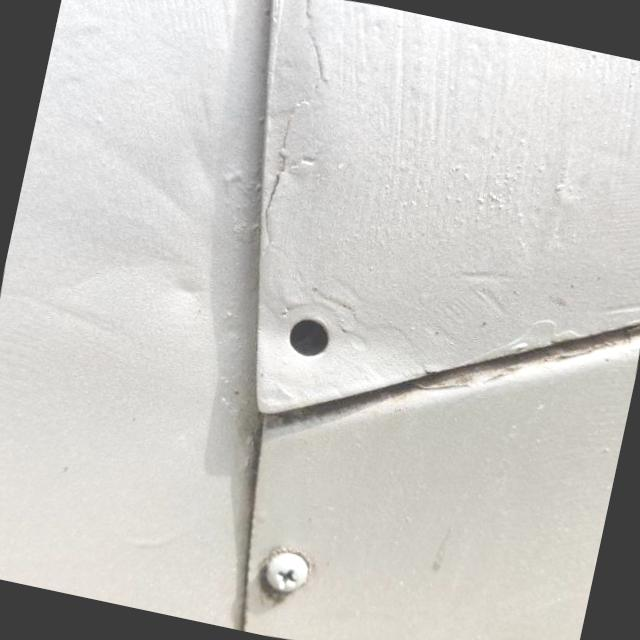Missing Fastener: (284, 316, 330, 358)
